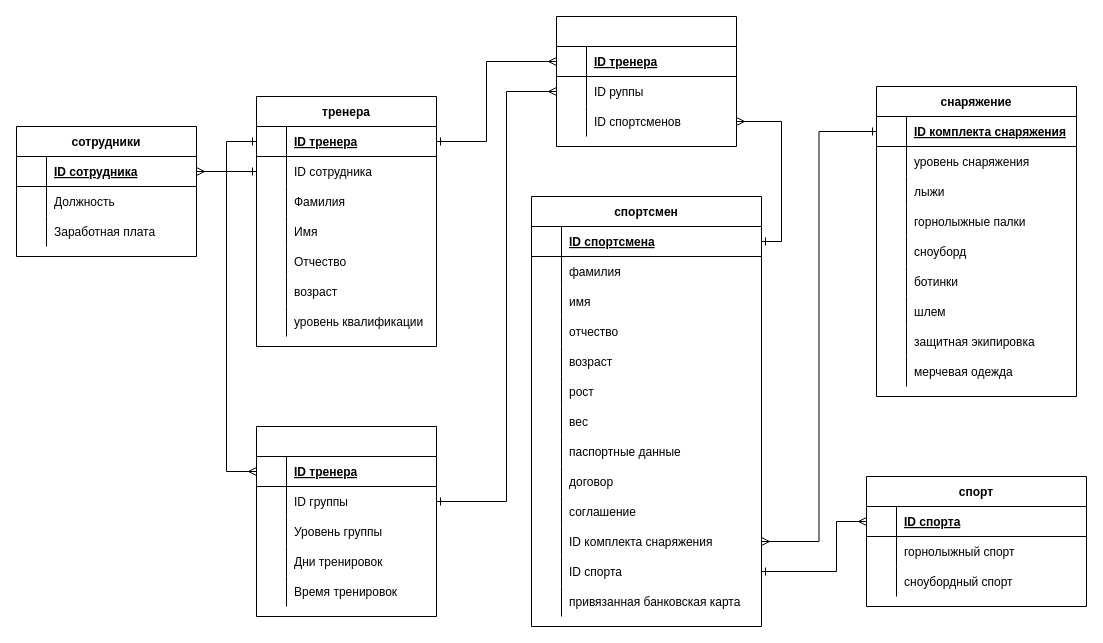
This 1103x643 diagram has some shape labels left out. Each missing label, with the box of its shape:
Расписание: (256, 426, 436, 616)
Список спортсменов: (556, 16, 736, 146)
